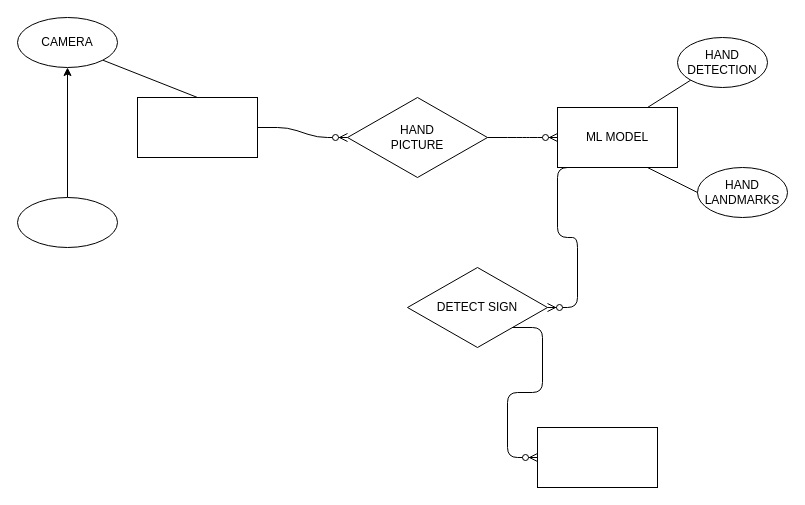
This 805x505 diagram has some shape labels left out. The shapes that lost their labels are listed below. From the top down, each one's centre as x and y in pixels, then its label:
At point (197, 127): "PICTURE".
At point (67, 222): "USER".
At point (597, 457): "SEND MAIL".
